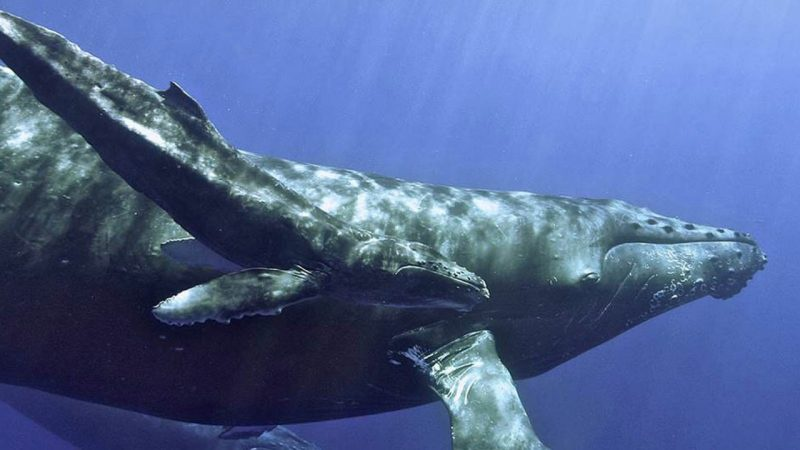humpback: (3, 67, 764, 424)
